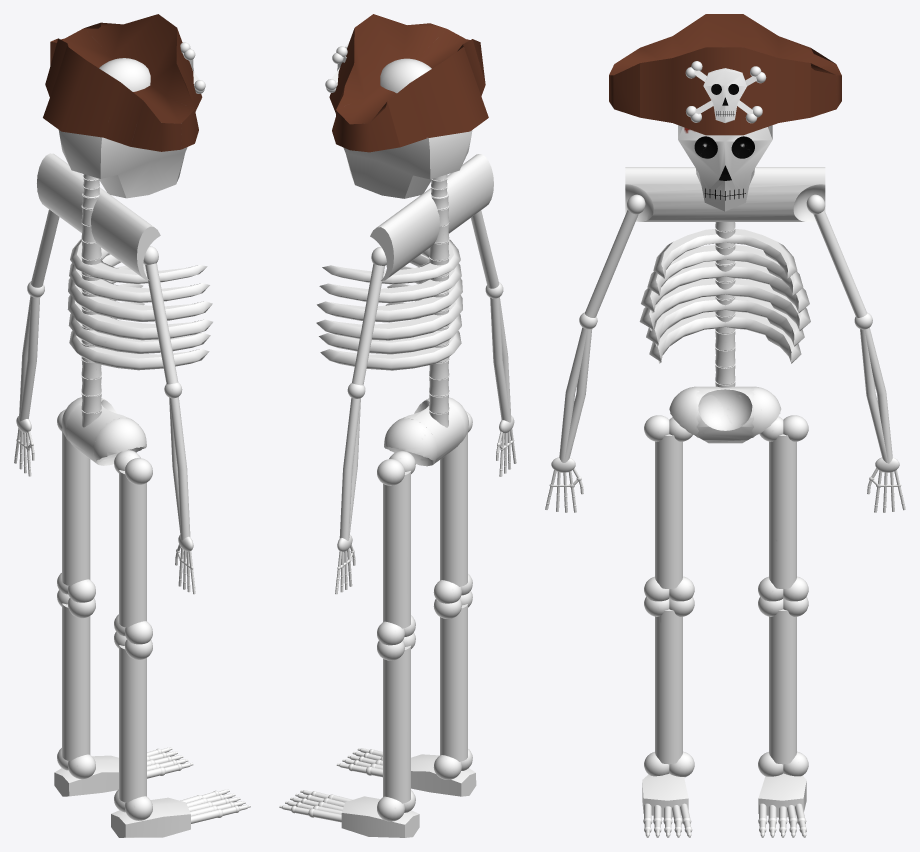
File: skeletonhead.fbx
The picture shows the model from 3 angles, left to right: view 1: azimuth 30°, elevation 25°; view 2: azimuth 150°, elevation 25°; view 3: azimuth 270°, elevation 25°; orthographic projection.
Parts seen in each view (by area): view 1: pCylinder84; view 2: pCylinder84; view 3: pCylinder84.
Boxes of the visible parts, x1,y1,x2,y2 form: pCylinder84: [14, 14, 250, 837]; pCylinder84: [279, 14, 516, 837]; pCylinder84: [545, 14, 905, 837].
Size of the model in its own units: 645 by 2997 by 1260.
Materials: 1 (1 with a texture image).
